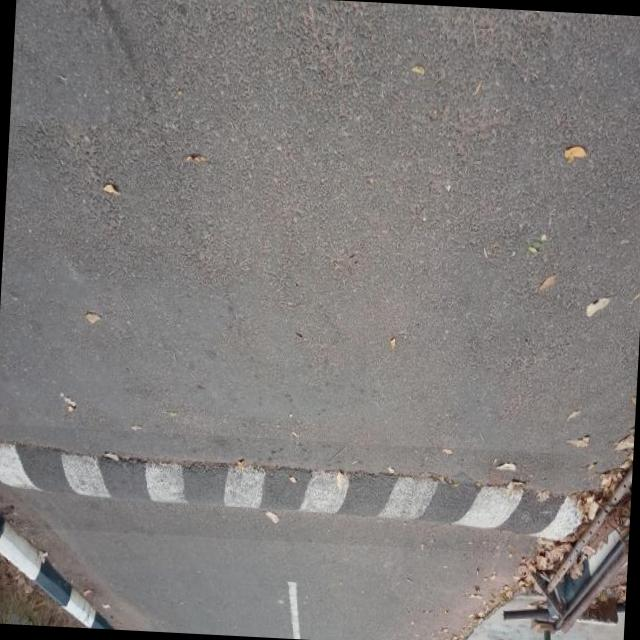bump: (0, 425, 590, 558)
